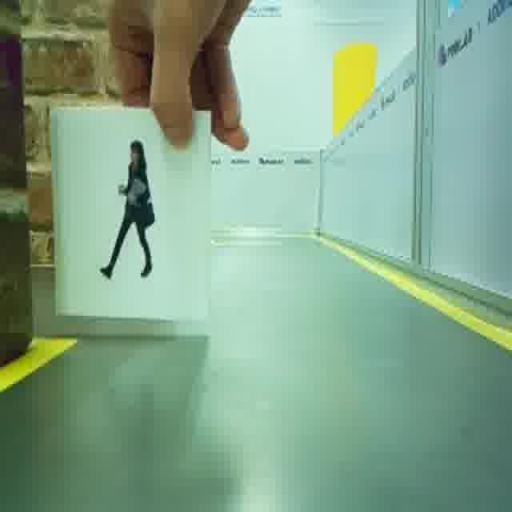human: (100, 140, 154, 278)
